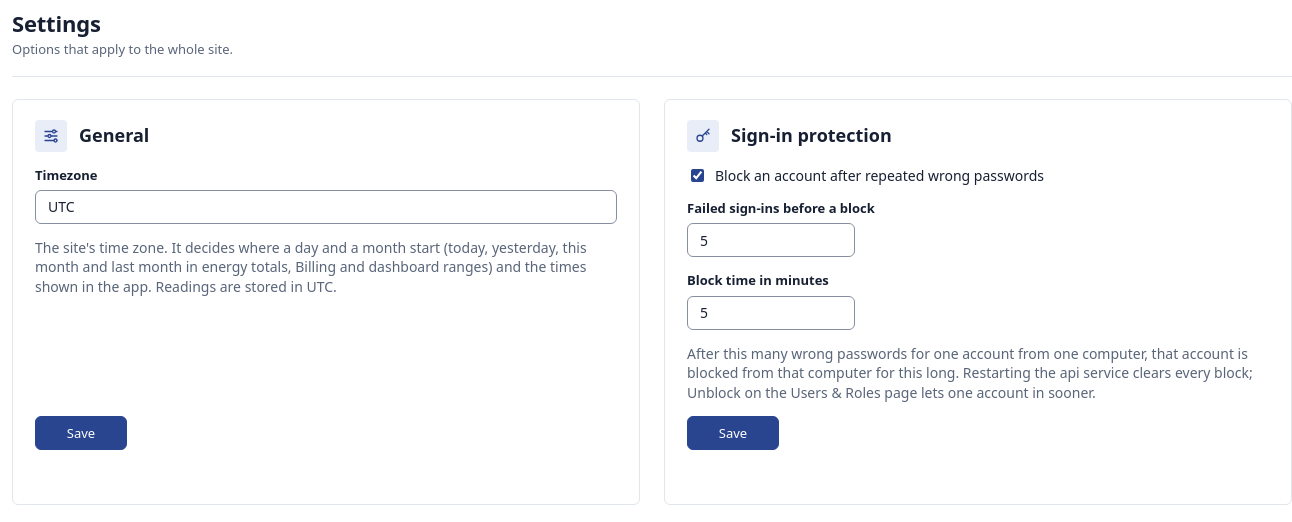
SettingsPage sign-in protection › shows the API's text when the save is refused
Expected: the number field labelled "Failed sign-ins before a block" holds "5", [687,224,855,258]
Click the button with aria-label "Save sign-in protection". click: [733, 433]
box: [687,416,779,450]
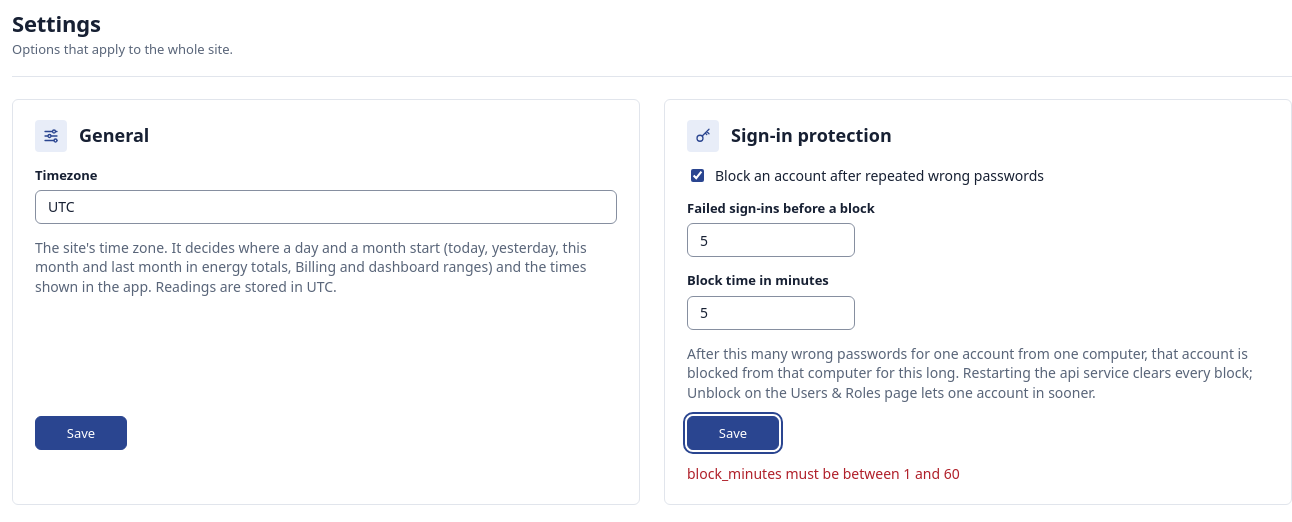
Now the message reads "block_minutes must be between 1 and 60", box [687,464,960,483]
